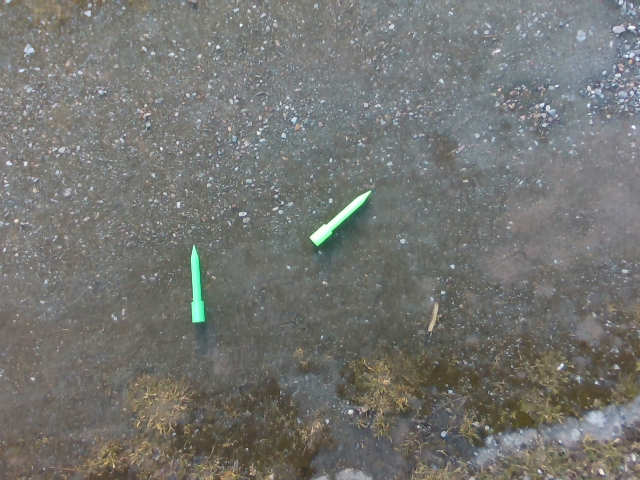Probe: (306, 184, 378, 252), (187, 237, 209, 330)
